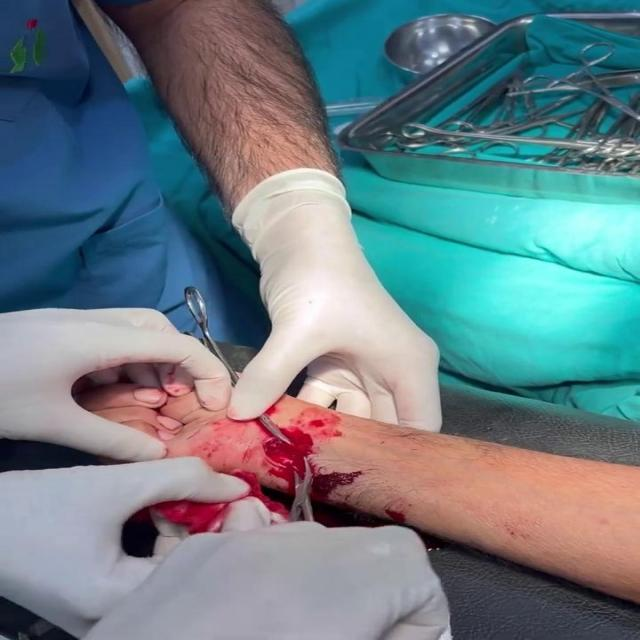flood: (210, 409, 358, 546)
